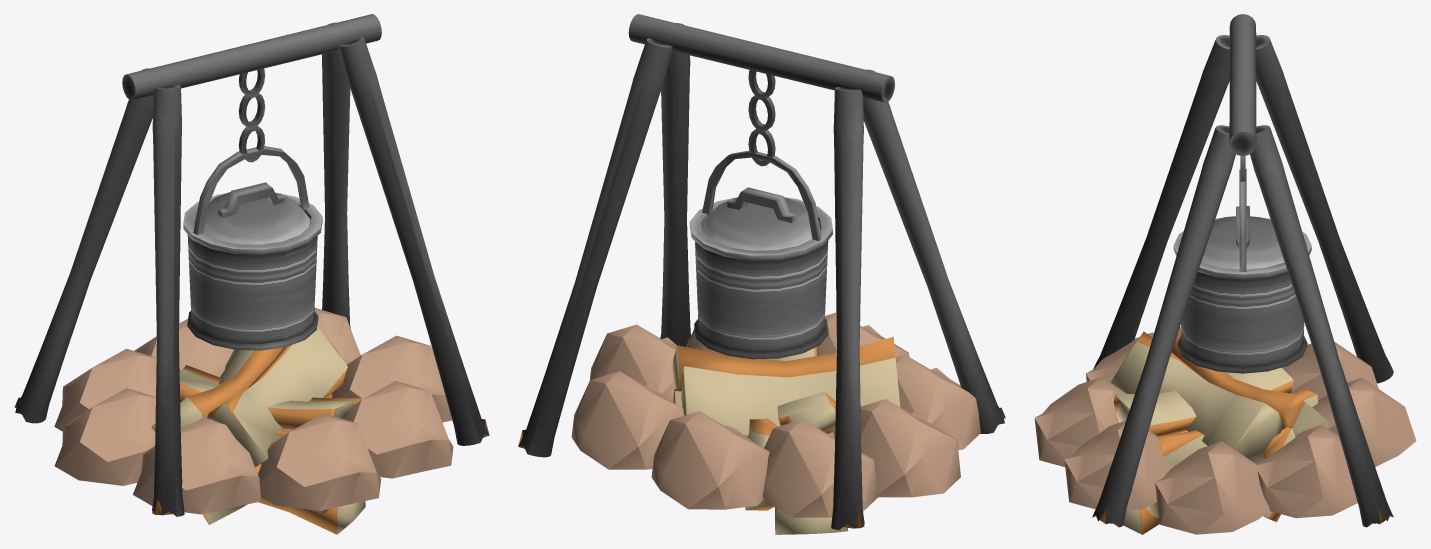
The model's file is BillyCanKitHand.fbx.
3 renders of one model, left to right at view 1: azimuth 30°, elevation 25°; view 2: azimuth 150°, elevation 25°; view 3: azimuth 270°, elevation 25°, orthographic. The views are drawn at different scales.
Parts seen in each view (by area): view 1: WoodStack (3), WoodStack (2), Rock, Rock (2), Rock (7), Rock (1), Rock (6), WoodStack (1), Rock (3), Rock (4), Rock (5); view 2: WoodStack (3), WoodStack (2), Rock (4), Rock (5), Rock (2), Rock (3), Rock (1), Rock (6), WoodStack (1), Rock; view 3: WoodStack (3), WoodStack (2), Rock (6), Rock (5), WoodStack (1), Rock (7), Rock, Rock (4), Rock (3), Rock (1).
Part boxes in pixels (bbox=[...]): WoodStack (3): bbox=[14, 14, 489, 516]; WoodStack (2): bbox=[151, 327, 347, 524]; Rock: bbox=[258, 413, 381, 510]; Rock (2): bbox=[54, 388, 155, 485]; Rock (7): bbox=[345, 381, 453, 478]; Rock (1): bbox=[133, 416, 260, 514]; Rock (6): bbox=[332, 335, 451, 422]; WoodStack (1): bbox=[179, 365, 365, 534]; Rock (3): bbox=[54, 348, 156, 431]; Rock (4): bbox=[134, 319, 233, 377]; Rock (5): bbox=[314, 308, 360, 364]; WoodStack (3): bbox=[518, 14, 1005, 529]; WoodStack (2): bbox=[672, 336, 900, 437]; Rock (4): bbox=[651, 411, 769, 509]; Rock (5): bbox=[571, 371, 683, 469]; Rock (2): bbox=[860, 399, 960, 497]; Rock (3): bbox=[763, 419, 877, 517]; Rock (1): bbox=[895, 355, 980, 449]; Rock (6): bbox=[589, 324, 676, 400]; WoodStack (1): bbox=[730, 346, 847, 534]; Rock: bbox=[818, 312, 909, 357]; WoodStack (3): bbox=[1092, 14, 1393, 527]; WoodStack (2): bbox=[1110, 326, 1331, 522]; Rock (6): bbox=[1155, 441, 1269, 534]; Rock (5): bbox=[1256, 425, 1357, 518]; WoodStack (1): bbox=[1113, 367, 1318, 534]; Rock (7): bbox=[1064, 420, 1173, 510]; Rock: bbox=[1034, 376, 1126, 466]; Rock (4): bbox=[1312, 377, 1416, 466]; Rock (3): bbox=[1282, 342, 1378, 399]; Rock (1): bbox=[1086, 332, 1153, 382].
Size of the model in its own units: 1.24 by 1.43 by 1.14.
